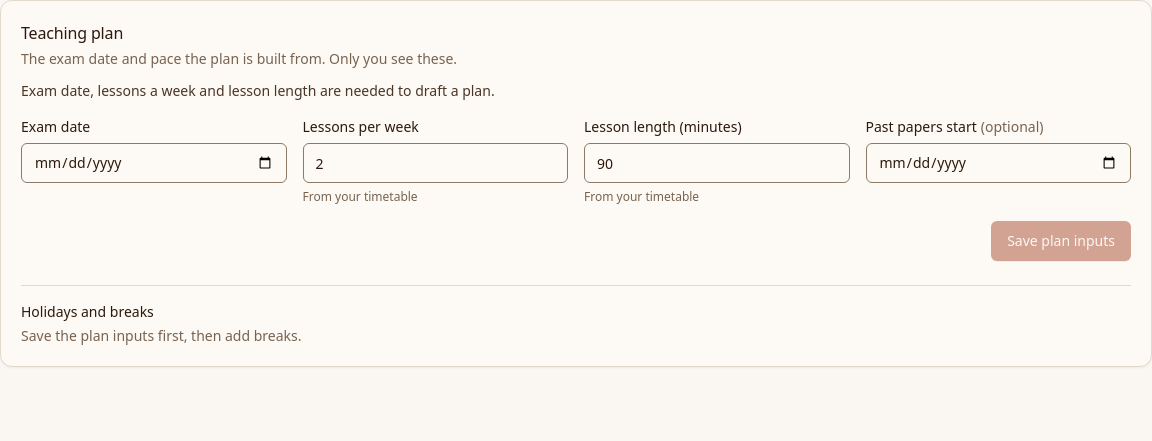
Test: after saving, the saved values show and the timetable marker does not return
This screenshot has width=1152, height=441.
Type "2027-05-10" into the date field labelled "Exam date". click: {"x": 154, "y": 163}
box: [21,143,286,183]
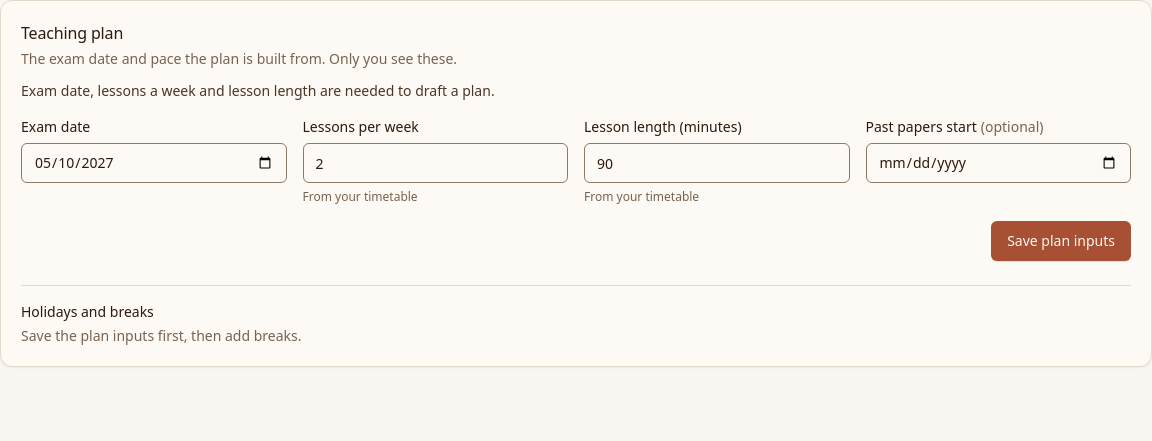
Click the button "Save plan inputs". click: {"x": 1061, "y": 241}
box: [991,221,1131,261]
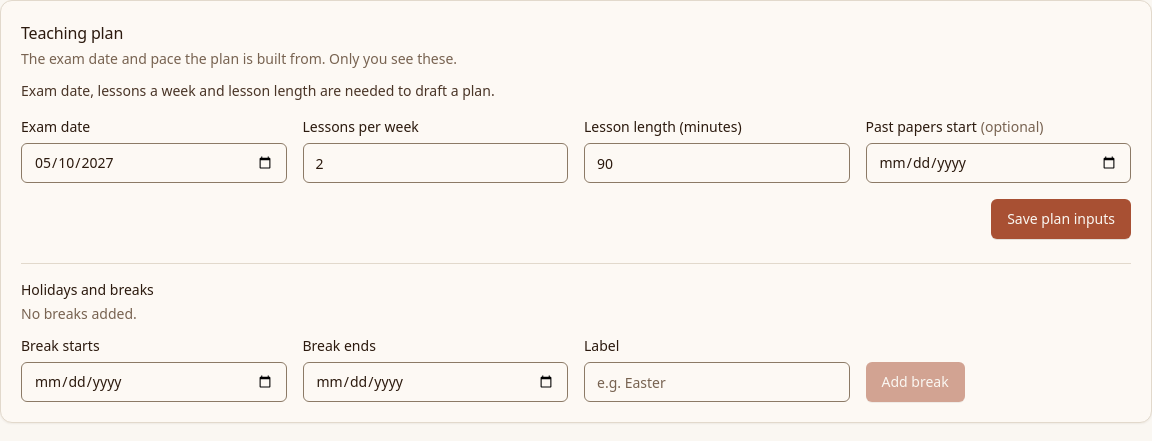
Expected: the number field labelled "Lessons per week" holds "2", [302,143,568,183]
Result: the text "From your timetable" is gone
Result: the text "Save the plan inputs first, then add breaks." is gone
